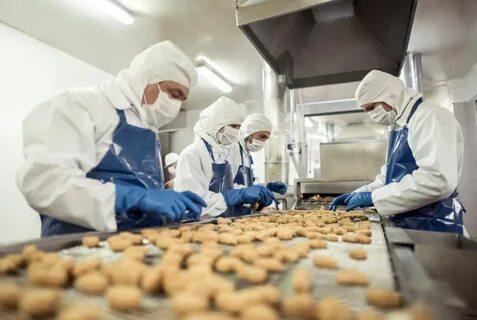mask: (140, 87, 183, 132), (362, 94, 400, 132), (213, 113, 244, 147), (246, 134, 266, 158)
